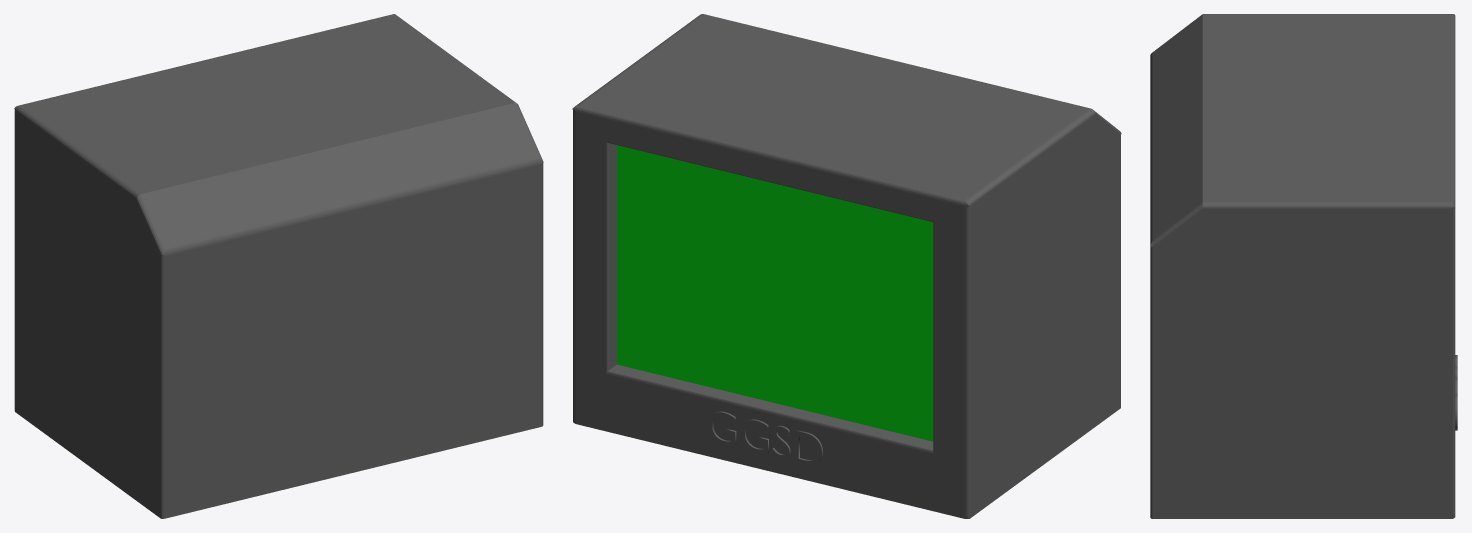
File: CRT TV Monitor.glb
3 renders of one model, left to right at view 1: azimuth 30°, elevation 25°; view 2: azimuth 150°, elevation 25°; view 3: azimuth 270°, elevation 25°, orthographic. The views are drawn at different scales.
Visible parts, largest first — view 1: CRT Monitor; view 2: CRT Monitor, GGSD; view 3: CRT Monitor.
Boxes of the visible parts, x1,y1,x2,y2 form: CRT Monitor: [14, 14, 543, 518]; CRT Monitor: [572, 14, 1121, 518]; GGSD: [707, 411, 823, 465]; CRT Monitor: [1150, 14, 1455, 518].
Bounding box in the file's own units: 2.88 × 2.2 × 1.95.
